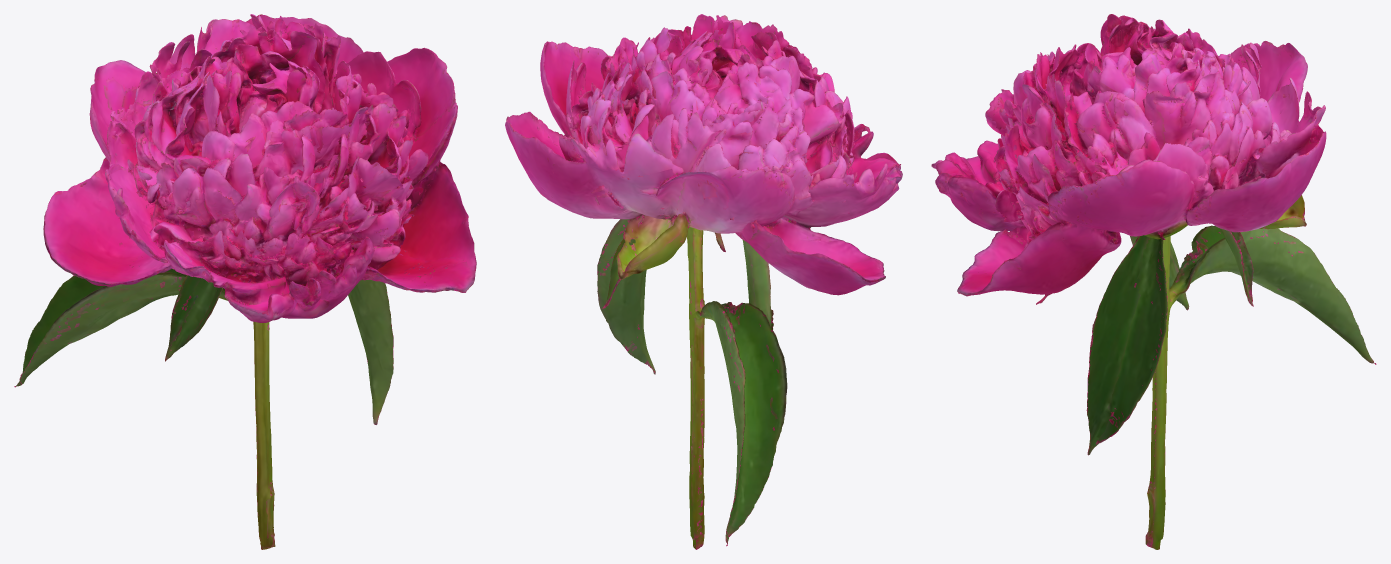
File: peony.glb
3 views of the same model, side by side, from view 1: azimuth 30°, elevation 25°; view 2: azimuth 150°, elevation 25°; view 3: azimuth 270°, elevation 25° (orthographic).
Visible parts, largest first — view 1: Object_10; view 2: Object_10; view 3: Object_10.
Boxes of the visible parts, box(x1,y1,x2,y2) form: Object_10: box(14, 14, 476, 549); Object_10: box(505, 14, 902, 549); Object_10: box(931, 14, 1376, 549).
Size of the model in its own units: 2.68 by 3.62 by 2.85.
Materials: 1 (1 with a texture image).
